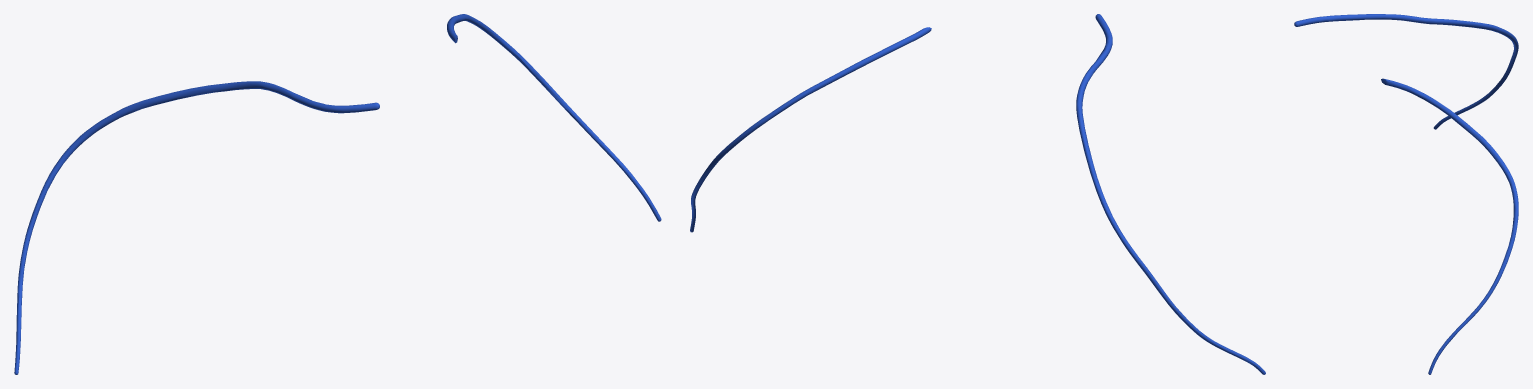
File: veins.back.glb
3 views of the same model, side by side, from view 1: azimuth 30°, elevation 25°; view 2: azimuth 150°, elevation 25°; view 3: azimuth 270°, elevation 25° (orthographic). The views are drawn at different scales.
Parts seen in each view (by area): view 1: right_subcostal_vein, left_subcostal_vein; view 2: right_subcostal_vein, left_subcostal_vein; view 3: left_subcostal_vein, right_subcostal_vein.
Boxes of the visible parts, box(x1,y1,x2,y2) form: right_subcostal_vein: box(14, 81, 379, 374); left_subcostal_vein: box(447, 14, 661, 221); right_subcostal_vein: box(1076, 14, 1265, 374); left_subcostal_vein: box(690, 27, 931, 232); left_subcostal_vein: box(1381, 78, 1518, 374); right_subcostal_vein: box(1294, 14, 1518, 129).
Size of the model in its own units: 0.1652 by 0.0663 by 0.0636.
